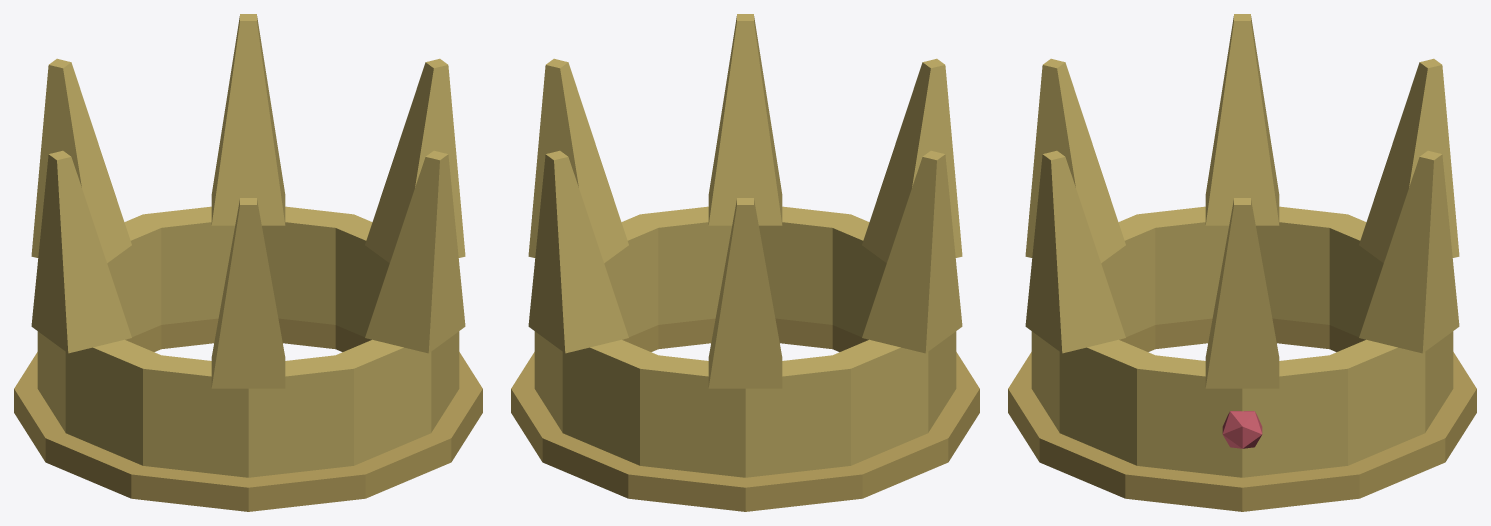
3 renders of one model, left to right at view 1: azimuth 30°, elevation 25°; view 2: azimuth 150°, elevation 25°; view 3: azimuth 270°, elevation 25°, orthographic.
Visible parts, largest first — view 1: part1, part0, part5, part7, part3, part6, part2, part4; view 2: part1, part0, part3, part5, part7, part4, part2, part6; view 3: part1, part0, part3, part7, part5, part2, part4, part6, part8.
Boxes of the visible parts, left/top/right/bottom form: part1: left=37, top=206, right=459, bottom=477; part0: left=14, top=318, right=482, bottom=511; part5: left=31, top=150, right=131, bottom=353; part7: left=365, top=150, right=465, bottom=353; part3: left=211, top=14, right=285, bottom=225; part6: left=211, top=198, right=285, bottom=388; part2: left=365, top=58, right=465, bottom=263; part4: left=31, top=58, right=131, bottom=263; part1: left=534, top=206, right=956, bottom=477; part0: left=511, top=318, right=979, bottom=511; part3: left=528, top=150, right=628, bottom=353; part5: left=862, top=150, right=962, bottom=353; part7: left=708, top=14, right=782, bottom=225; part4: left=708, top=198, right=782, bottom=388; part2: left=528, top=58, right=628, bottom=263; part6: left=862, top=58, right=962, bottom=263; part1: left=1031, top=206, right=1453, bottom=477; part0: left=1008, top=318, right=1476, bottom=511; part3: left=1359, top=150, right=1459, bottom=353; part7: left=1025, top=150, right=1125, bottom=353; part5: left=1205, top=14, right=1279, bottom=225; part2: left=1205, top=198, right=1279, bottom=388; part4: left=1359, top=58, right=1459, bottom=263; part6: left=1025, top=58, right=1125, bottom=263; part8: left=1222, top=411, right=1262, bottom=448.
Size of the model in its own units: 2.8 by 2 by 2.8.
